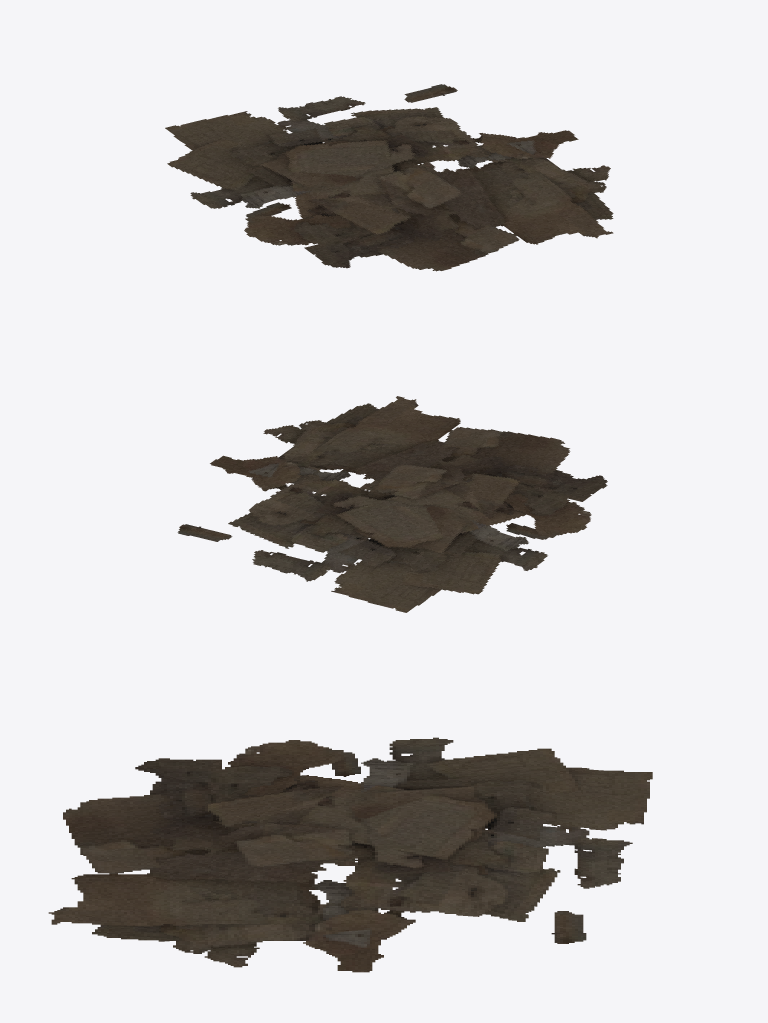
The model's file is trash_5.glb.
3 renders of one model, top to bottom at view 1: azimuth 30°, elevation 25°; view 2: azimuth 150°, elevation 25°; view 3: azimuth 270°, elevation 25°, orthographic. The views are drawn at different scales.
Parts seen in each view (by area): view 1: trash_5; view 2: trash_5; view 3: trash_5.
Boxes of the visible parts, box(x1,y1,x2,y2) form: trash_5: box(165, 84, 613, 271); trash_5: box(177, 396, 607, 612); trash_5: box(48, 737, 652, 972).
Bounding box in the file's own units: 1 × 0.0147 × 1.
Materials: 1 (1 with a texture image).
